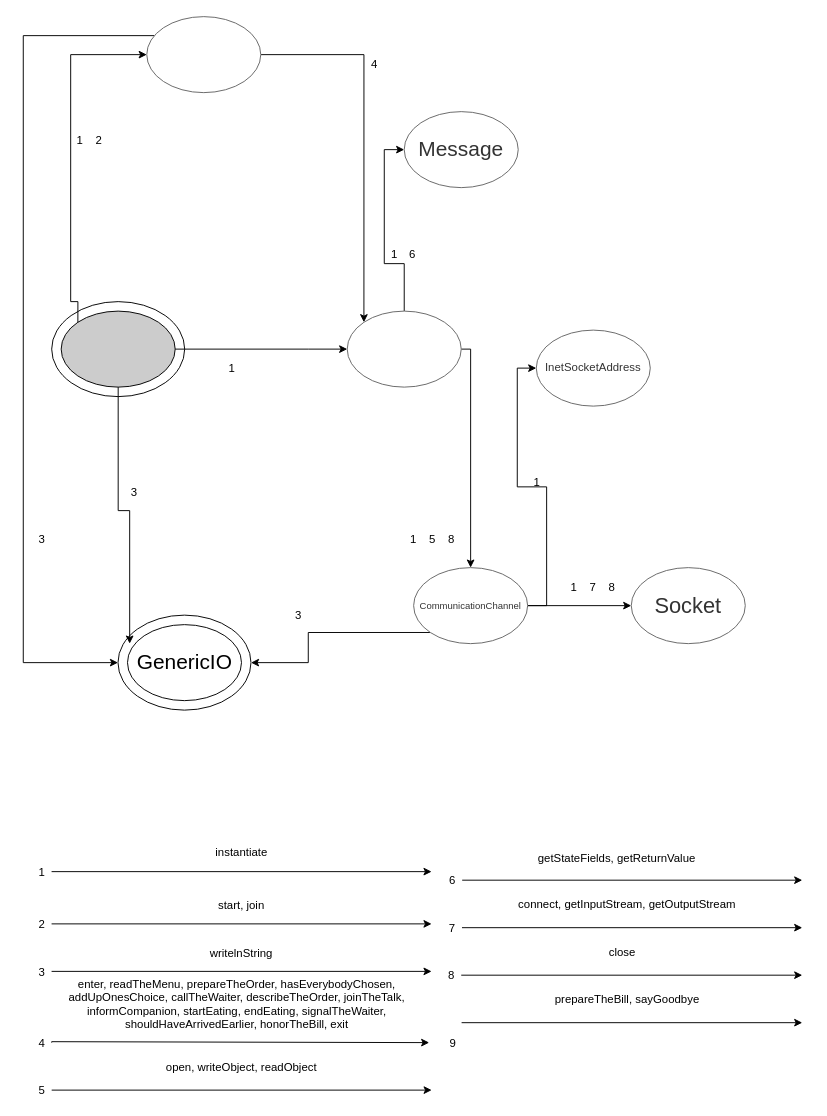
This 827x1116 diagram has some shape labels left out. Each missing label, with the box of its shape:
Student: (146, 16, 261, 93)
StudentMain: (60, 310, 175, 387)
TableStub: (346, 310, 461, 387)
